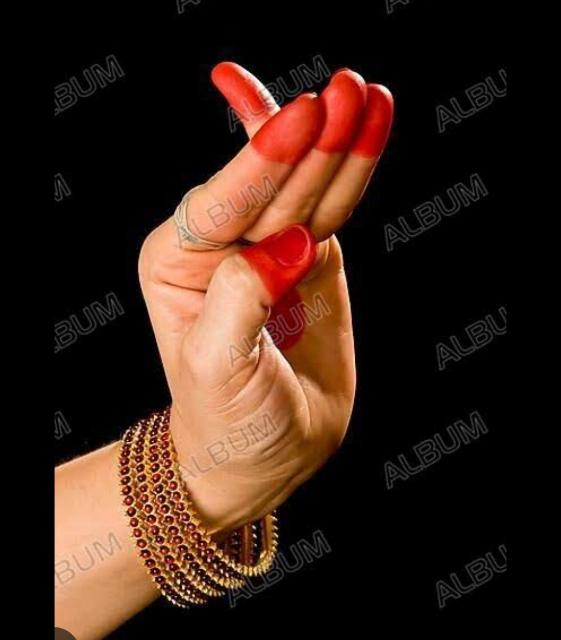chatur: (107, 42, 457, 600)
